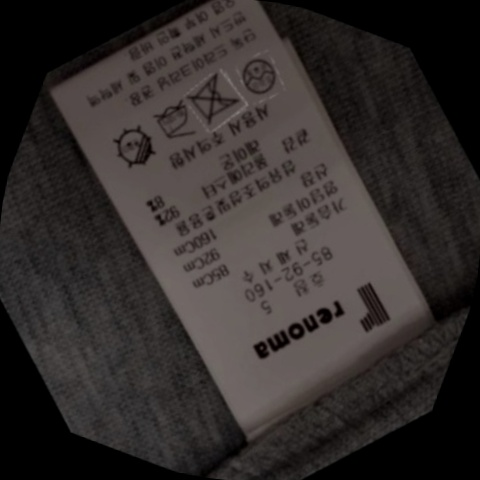DN_wash: (182, 69, 250, 132)
dry_clean_petrol_only: (234, 48, 289, 102)
iron_low: (143, 94, 204, 150)
line_dry_in_shade: (105, 119, 170, 178)
